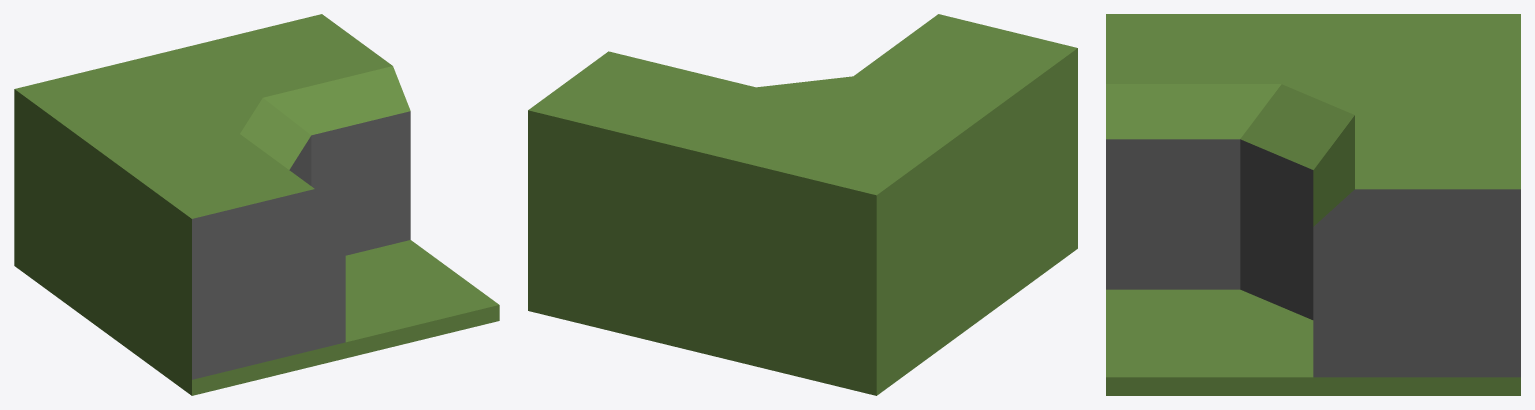
Rendered from cliff_inner_corner.fbx.
3 renders of one model, left to right at view 1: azimuth 30°, elevation 25°; view 2: azimuth 150°, elevation 25°; view 3: azimuth 270°, elevation 25°, orthographic. The views are drawn at different scales.
Parts seen in each view (by area): view 1: Cube.004; view 2: Cube.004; view 3: Cube.004.
Boxes of the visible parts, left/top/right/bottom form: Cube.004: left=14, top=14, right=499, bottom=395; Cube.004: left=528, top=14, right=1077, bottom=395; Cube.004: left=1106, top=14, right=1520, bottom=395.
Size of the model in its own units: 200 by 110 by 200.
